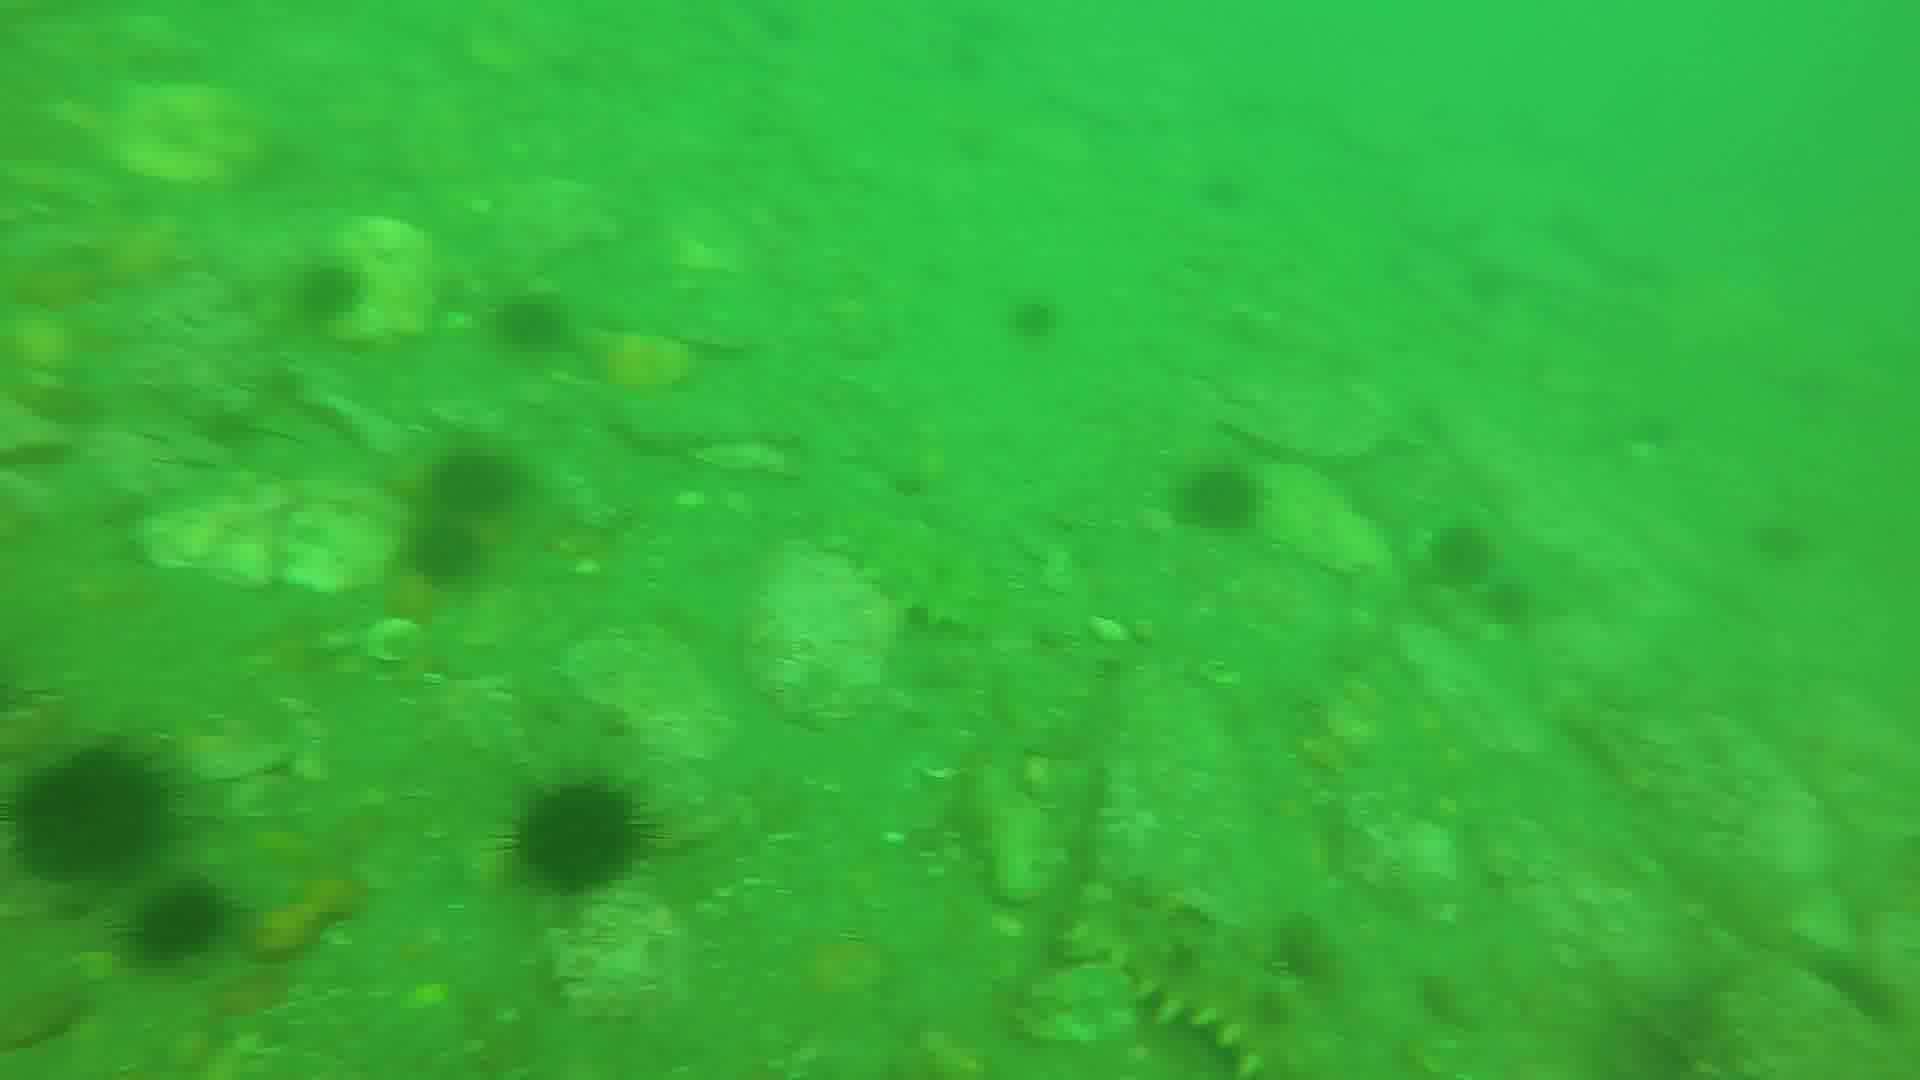echinus: (18, 742, 179, 890), (506, 789, 658, 890), (1170, 452, 1280, 546), (123, 880, 233, 967), (431, 435, 535, 527), (407, 508, 502, 593), (502, 289, 582, 357), (295, 258, 371, 324), (1432, 524, 1497, 592), (1011, 301, 1065, 345)
holothurian: (1083, 891, 1354, 1080)
scallop: (363, 622, 433, 670)
